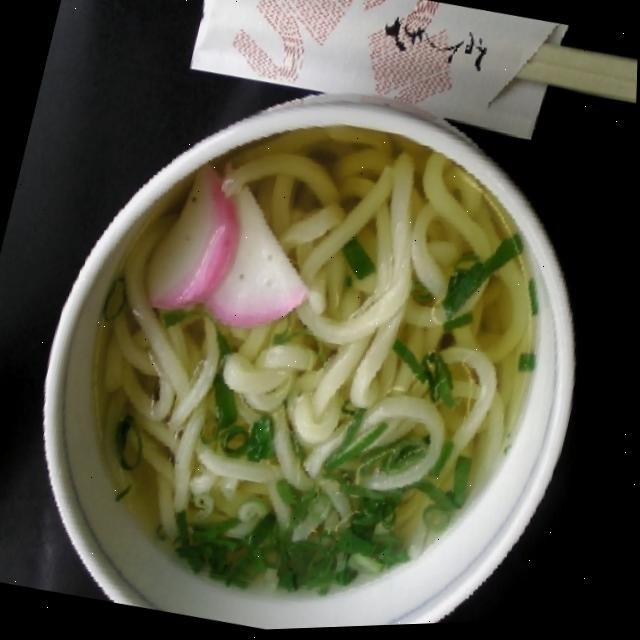面条主食: (27, 54, 615, 639)
